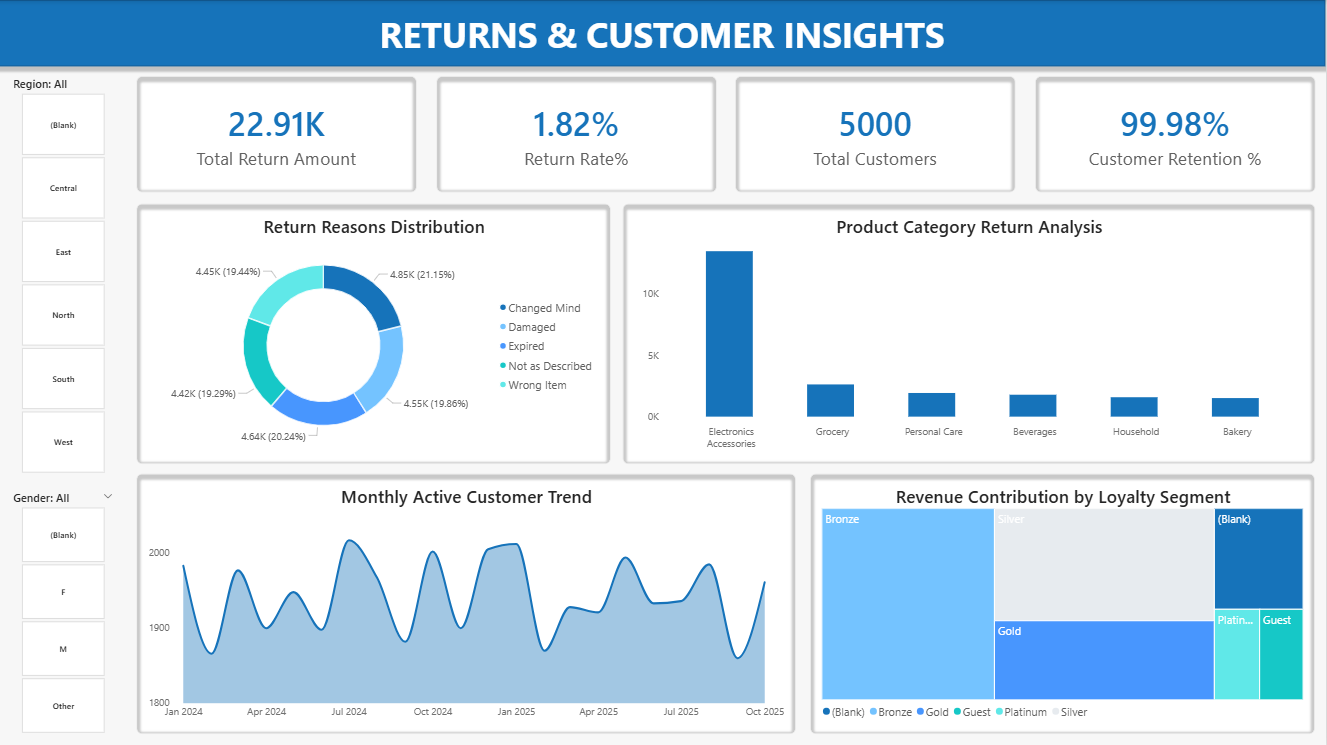

The dashboard page shown, as its layout file describes it:
{"tool":"powerbi","page":{"name":"RETURNS & CUSTOMER INSIGHTS","canvas":[1920,1080],"ordinal":4},"visuals":[{"type":"card","fields":{"Values":["Measure.Total Return Amount"]},"box":[199.1,110.4,405.4,168.3],"z":0},{"type":"shape","box":[0,0,1920.1,95.9],"z":1000},{"type":"card","fields":{"Values":["Measure.Customer Retention %"]},"box":[1500.2,110.4,405.4,168.3],"z":2000},{"type":"slicer","fields":{"Values":["Dim_Stores.Region"]},"box":[12.7,110.4,159.3,575.5],"z":3000},{"type":"card","fields":{"Values":["Measure.Total Customers"]},"box":[1066.5,110.4,405.4,168.3],"z":4000},{"type":"card","fields":{"Values":["Measure.Return Rate%"]},"box":[632.8,110.4,405.4,168.3],"z":5000},{"type":"slicer","fields":{"Values":["Dim_Customers.Gender"]},"box":[12.7,709.4,159.3,352.9],"z":6000},{"type":"donutChart","title":"Return Reasons Distribution","fields":{"Series":["Fact_Returns.Reason"],"Y":["Sum(Fact_Returns.ReturnAmount)"]},"box":[199.1,295,686.5,376.4],"z":7000},{"type":"columnChart","title":"Product Category Return Analysis","fields":{"Category":["Dim_Products.Category"],"Y":["Sum(Fact_Returns.ReturnAmount)"]},"box":[903.6,295,1002,376.4],"z":8000},{"type":"treemap","title":"Revenue Contribution by Loyalty Segment","fields":{"Details":["Dim_Customers.LoyaltyTier"],"Values":["Measure.Total Sales"]},"box":[1174.9,685.9,730.7,376.4],"z":9000},{"type":"areaChart","title":"Monthly Active Customer Trend","fields":{"Category":["Dim_Calendar.Year Hierarchy.StartofMonth"],"Y":["Measure.Unique Customers"]},"box":[199.1,685.9,954.6,376.4],"z":10000}]}

Visuals, with their boxes in screenshot pixels (x1, y1, x2, y2), scaled from the page's 1920x1080 canvas onto the 1327x745 screenshot:
card - Measure.Total Return Amount: 138,76,418,192
shape: 0,0,1326,66
card - Measure.Customer Retention %: 1037,76,1317,192
slicer - Dim_Stores.Region: 9,76,119,473
card - Measure.Total Customers: 737,76,1017,192
card - Measure.Return Rate%: 437,76,718,192
slicer - Dim_Customers.Gender: 9,489,119,733
"Return Reasons Distribution" donutChart: 138,203,612,463
"Product Category Return Analysis" columnChart: 625,203,1317,463
"Revenue Contribution by Loyalty Segment" treemap: 812,473,1317,733
"Monthly Active Customer Trend" areaChart: 138,473,797,733
